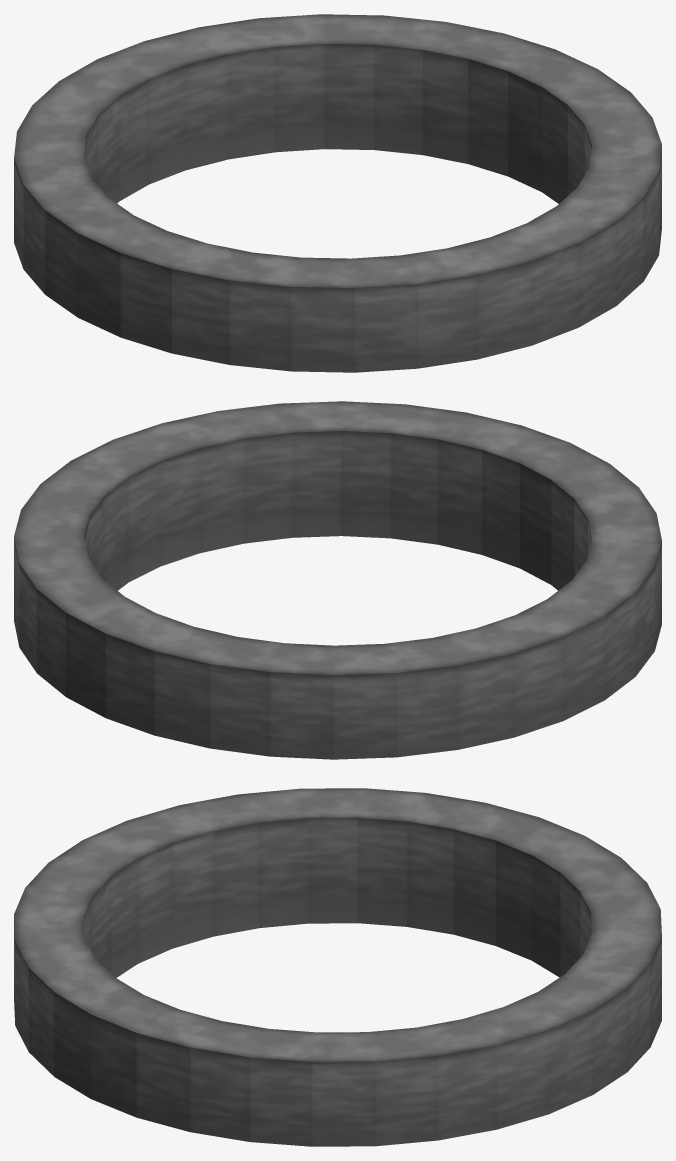
Rendered from anneaux_grand.gltf.
3 views of the same model, one above another, from view 1: azimuth 30°, elevation 25°; view 2: azimuth 150°, elevation 25°; view 3: azimuth 270°, elevation 25° (orthographic).
Visible parts, largest first — view 1: Circle.002_Baked; view 2: Circle.002_Baked; view 3: Circle.002_Baked.
Boxes of the visible parts, x1=… form: Circle.002_Baked: x1=14, y1=14, x2=661, y2=372; Circle.002_Baked: x1=14, y1=401, x2=661, y2=759; Circle.002_Baked: x1=14, y1=788, x2=661, y2=1146.
Bounding box in the file's own units: 183 × 32.92 × 183.
Materials: 1 (1 with a texture image).
